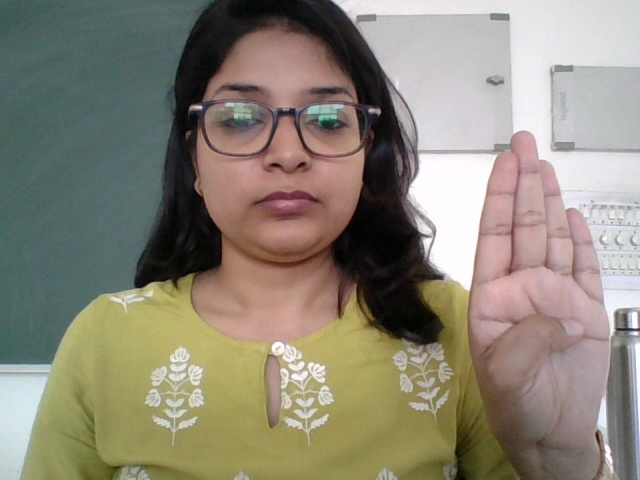B: (445, 124, 635, 459)
